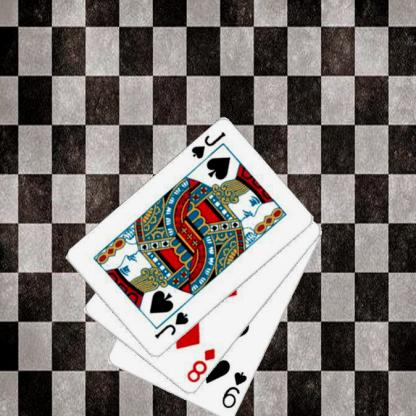8D: (184, 346, 217, 384)
9S: (219, 369, 249, 410)
JS: (188, 129, 227, 161), (152, 309, 190, 340)
